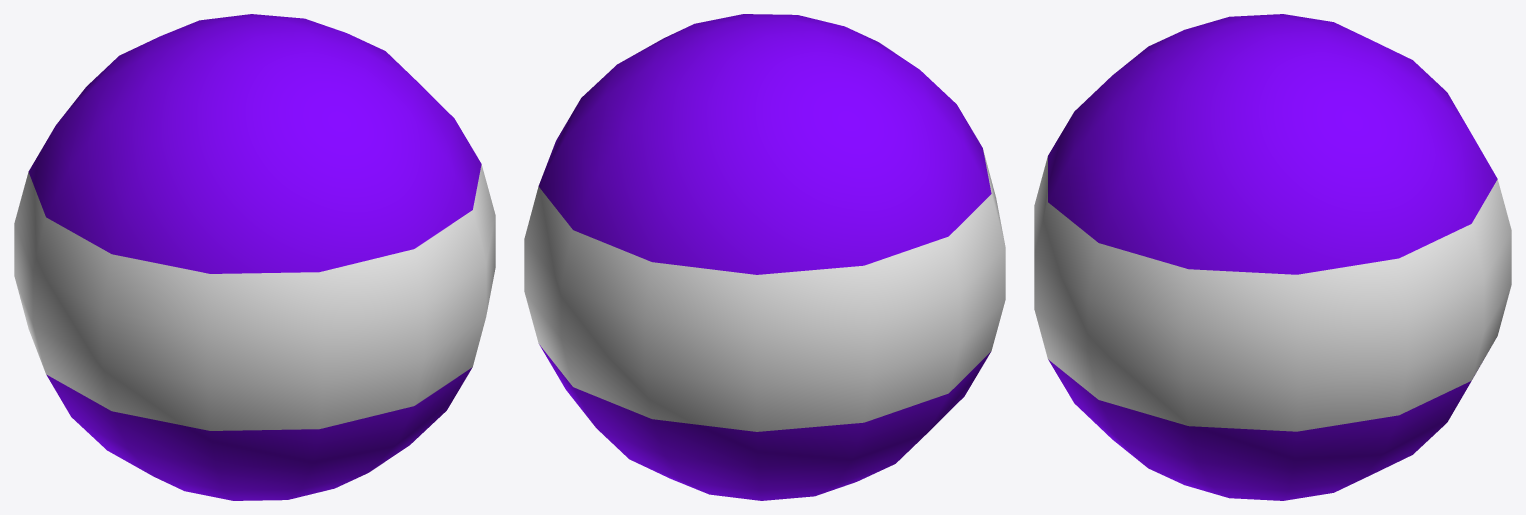
File: D_Ball12_03.fbx
3 renders of one model, left to right at view 1: azimuth 30°, elevation 25°; view 2: azimuth 150°, elevation 25°; view 3: azimuth 270°, elevation 25°, orthographic.
Visible parts, largest first — view 1: D_Ball12_03; view 2: D_Ball12_03; view 3: D_Ball12_03.
Part boxes in pixels (x1,y1,x2,y2): D_Ball12_03: (14,14,495,500); D_Ball12_03: (524,14,1005,500); D_Ball12_03: (1034,14,1511,500).
Bounding box in the file's own units: 0.9798 × 0.9943 × 0.9727.
